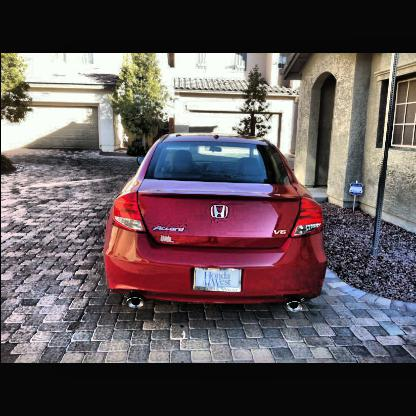Honda Accord Coupe 2012: (105, 135, 328, 314)
